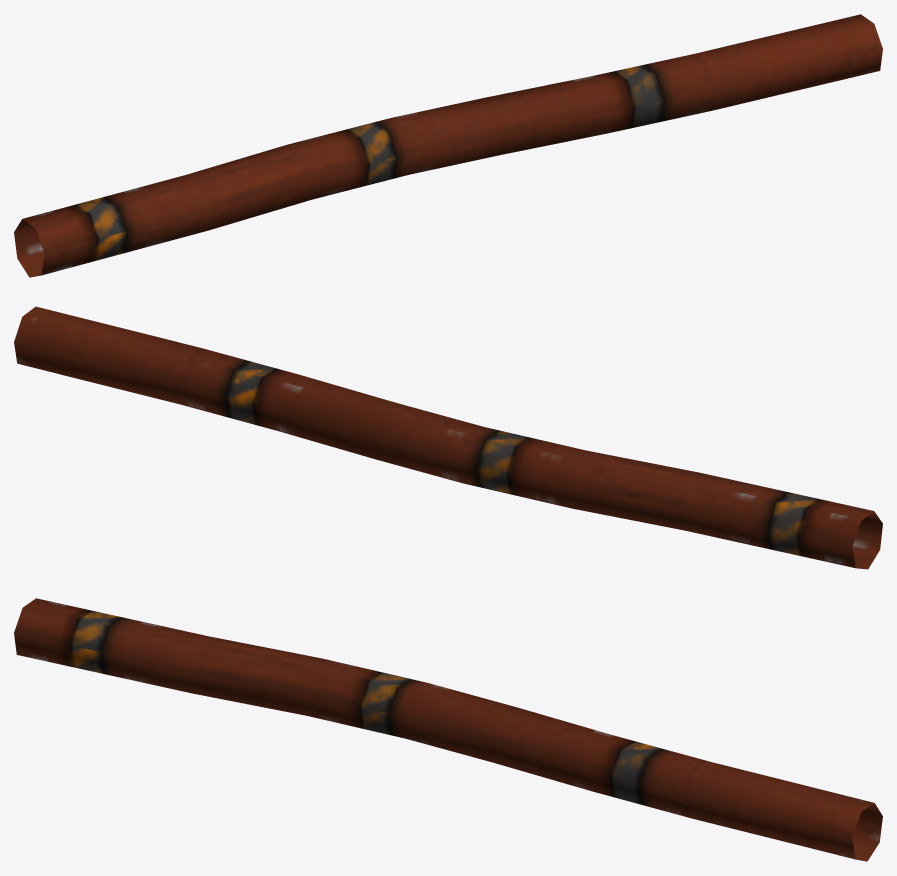
File: lab_thick_straight_med_orange.dae
The picture shows the model from 3 angles, top to bottom: view 1: azimuth 30°, elevation 25°; view 2: azimuth 150°, elevation 25°; view 3: azimuth 330°, elevation 25°; orthographic projection.
Visible parts, largest first — view 1: straight_med; view 2: straight_med; view 3: straight_med.
Part boxes in pixels (x1,y1,x2,y2): straight_med: [14, 14, 882, 277]; straight_med: [14, 306, 882, 569]; straight_med: [14, 598, 882, 861].
Size of the model in its own units: 2 by 0.1228 by 0.1718.
1 material, 1 textured.
